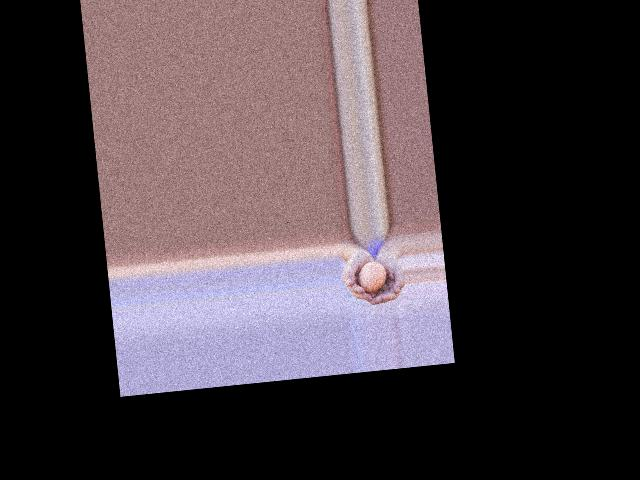egg: (357, 259, 388, 293)
